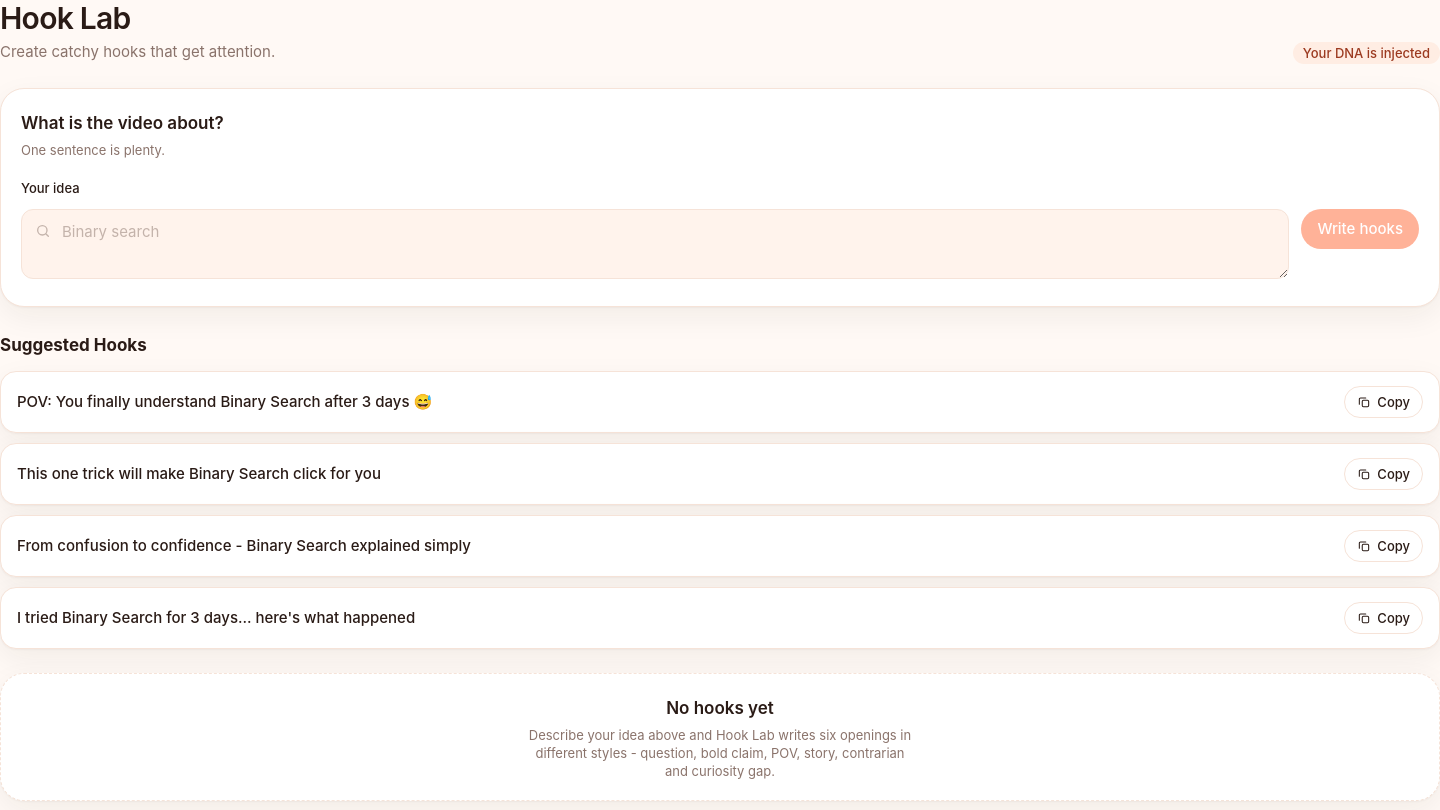
Scenario: HookLabPage › shows an error state with a retry when the model fails
This screenshot has width=1440, height=810.
Type "Explain binary search" into the text box labelled "Your idea" at (655, 244), box [21,209,1289,279]
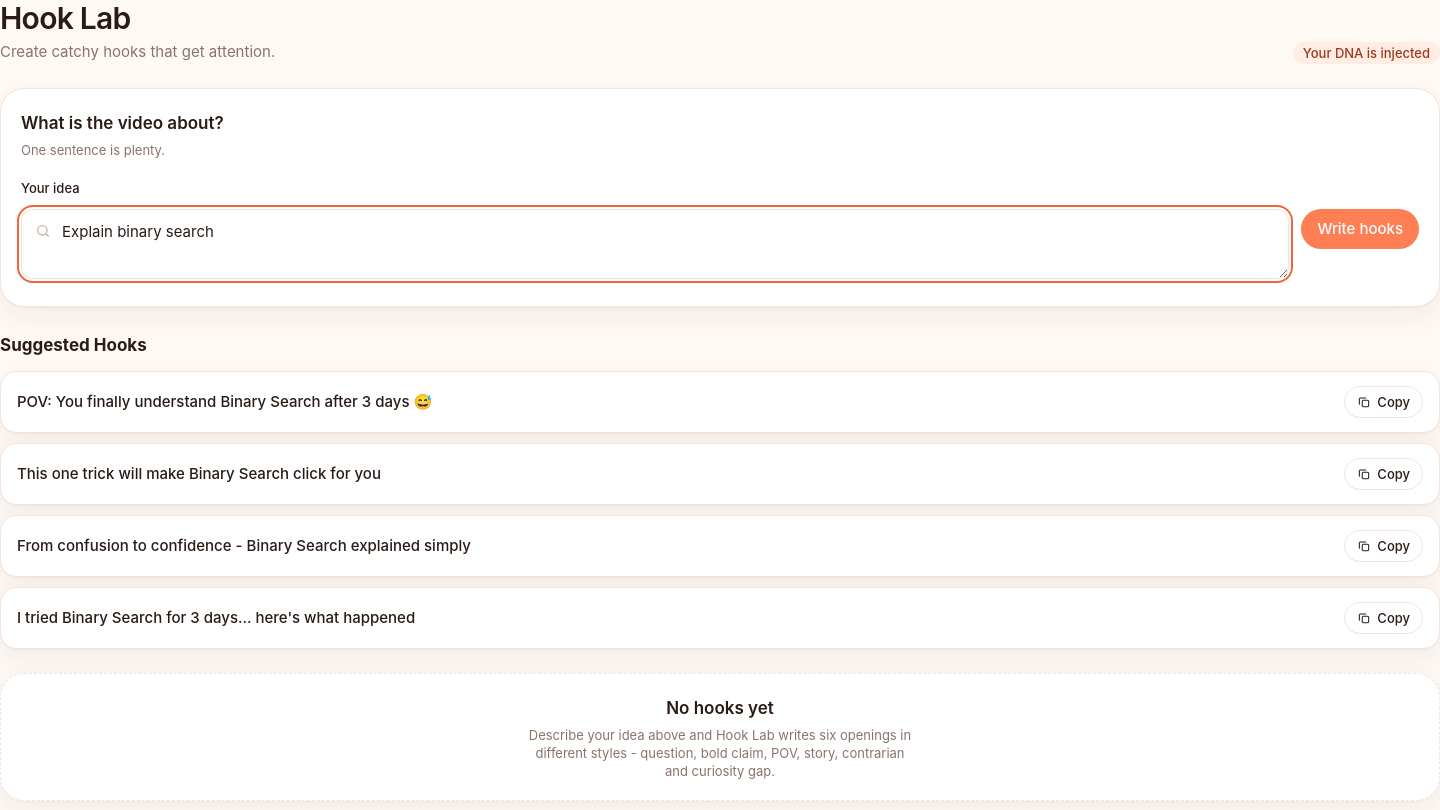
Click the button "Write hooks" at (1360, 229), box [1301,209,1419,249]
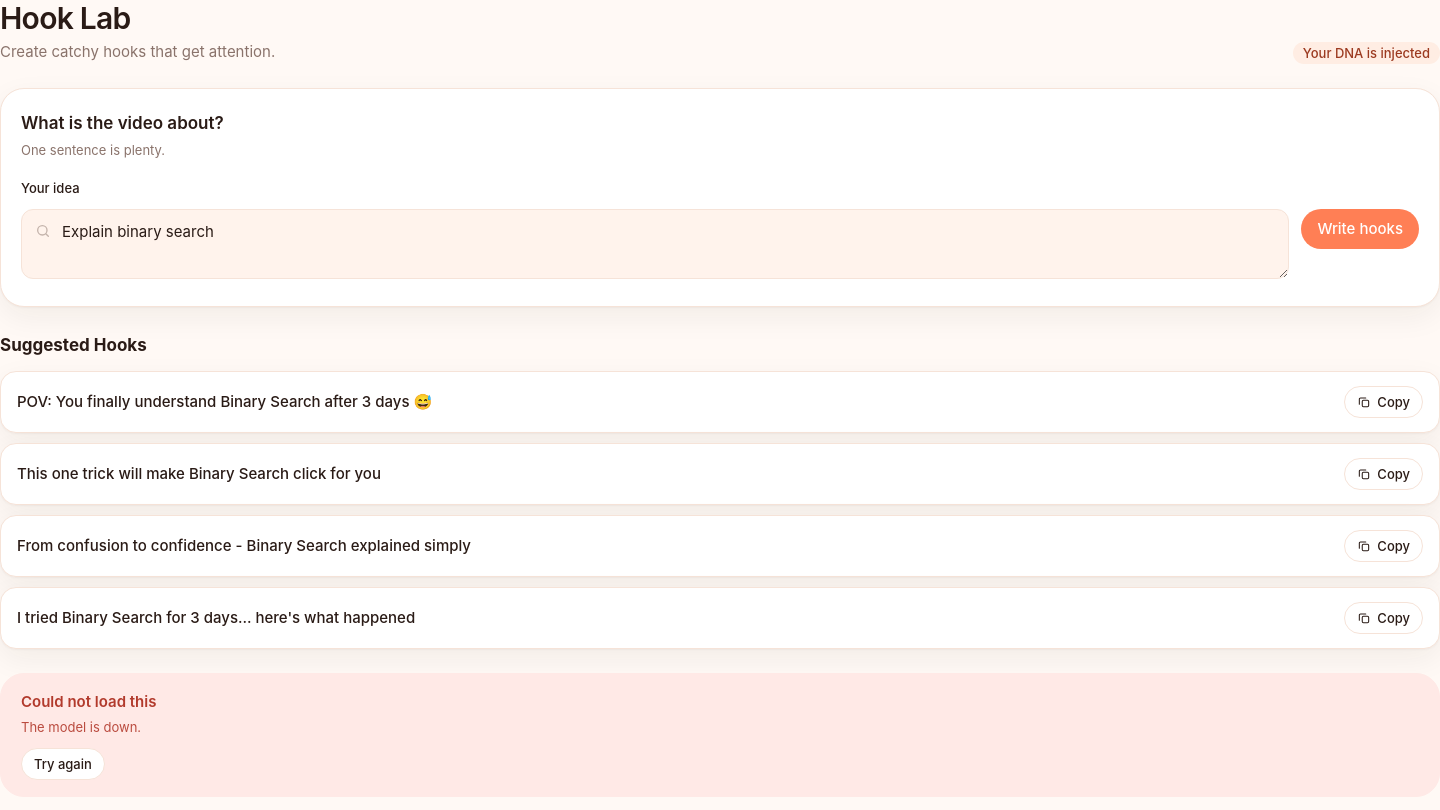
Now the message shows "The model is down.", box [21,718,141,734]
